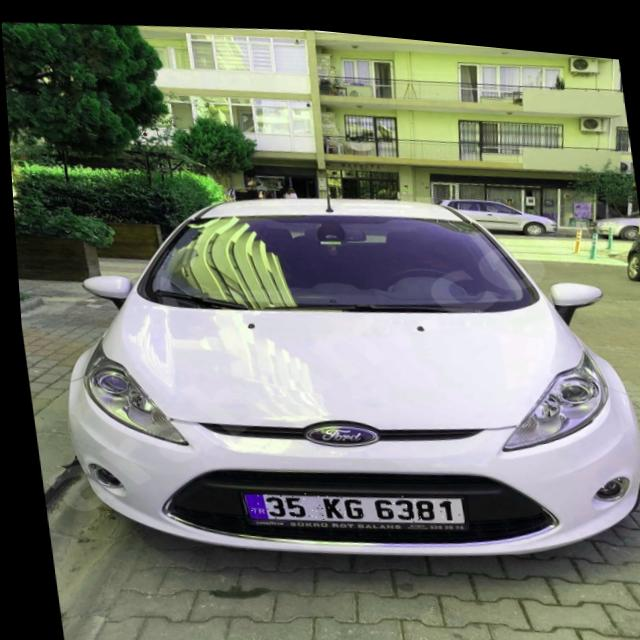license_plate: (235, 472, 460, 530)
